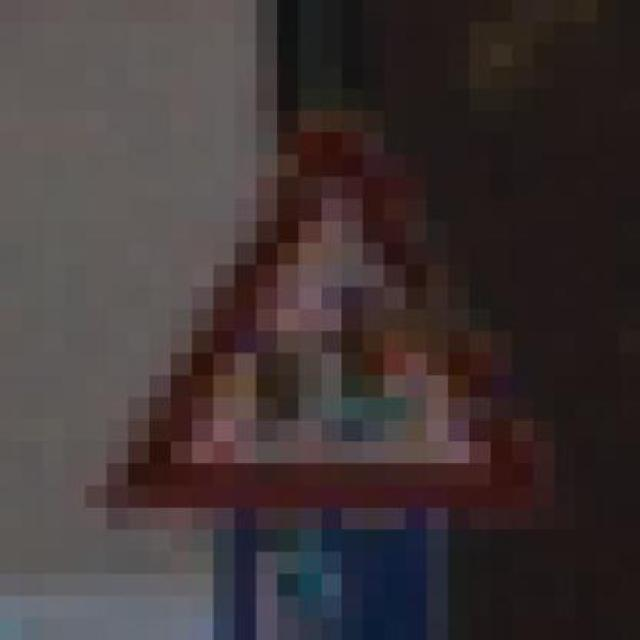Beware of children: (86, 89, 576, 552)
